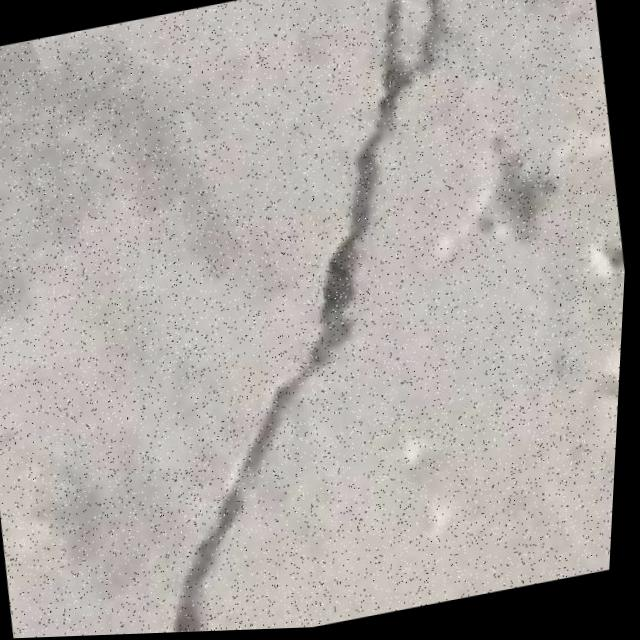Crack: (64, 0, 547, 637)
